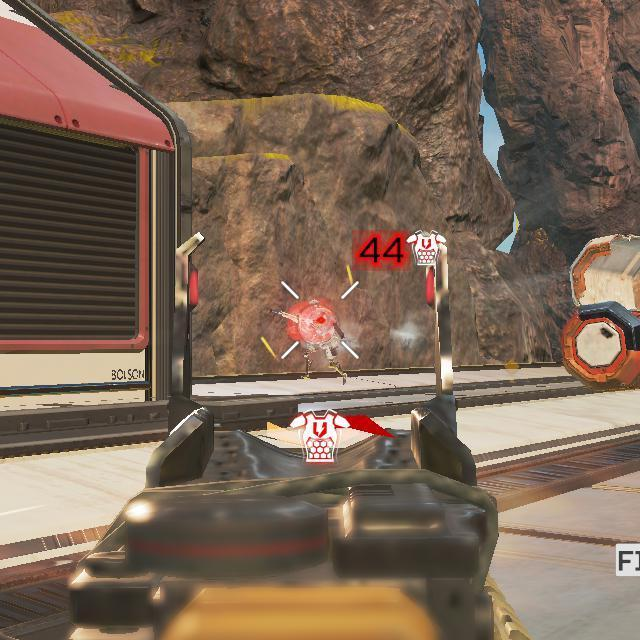avatar: (299, 296, 349, 386)
